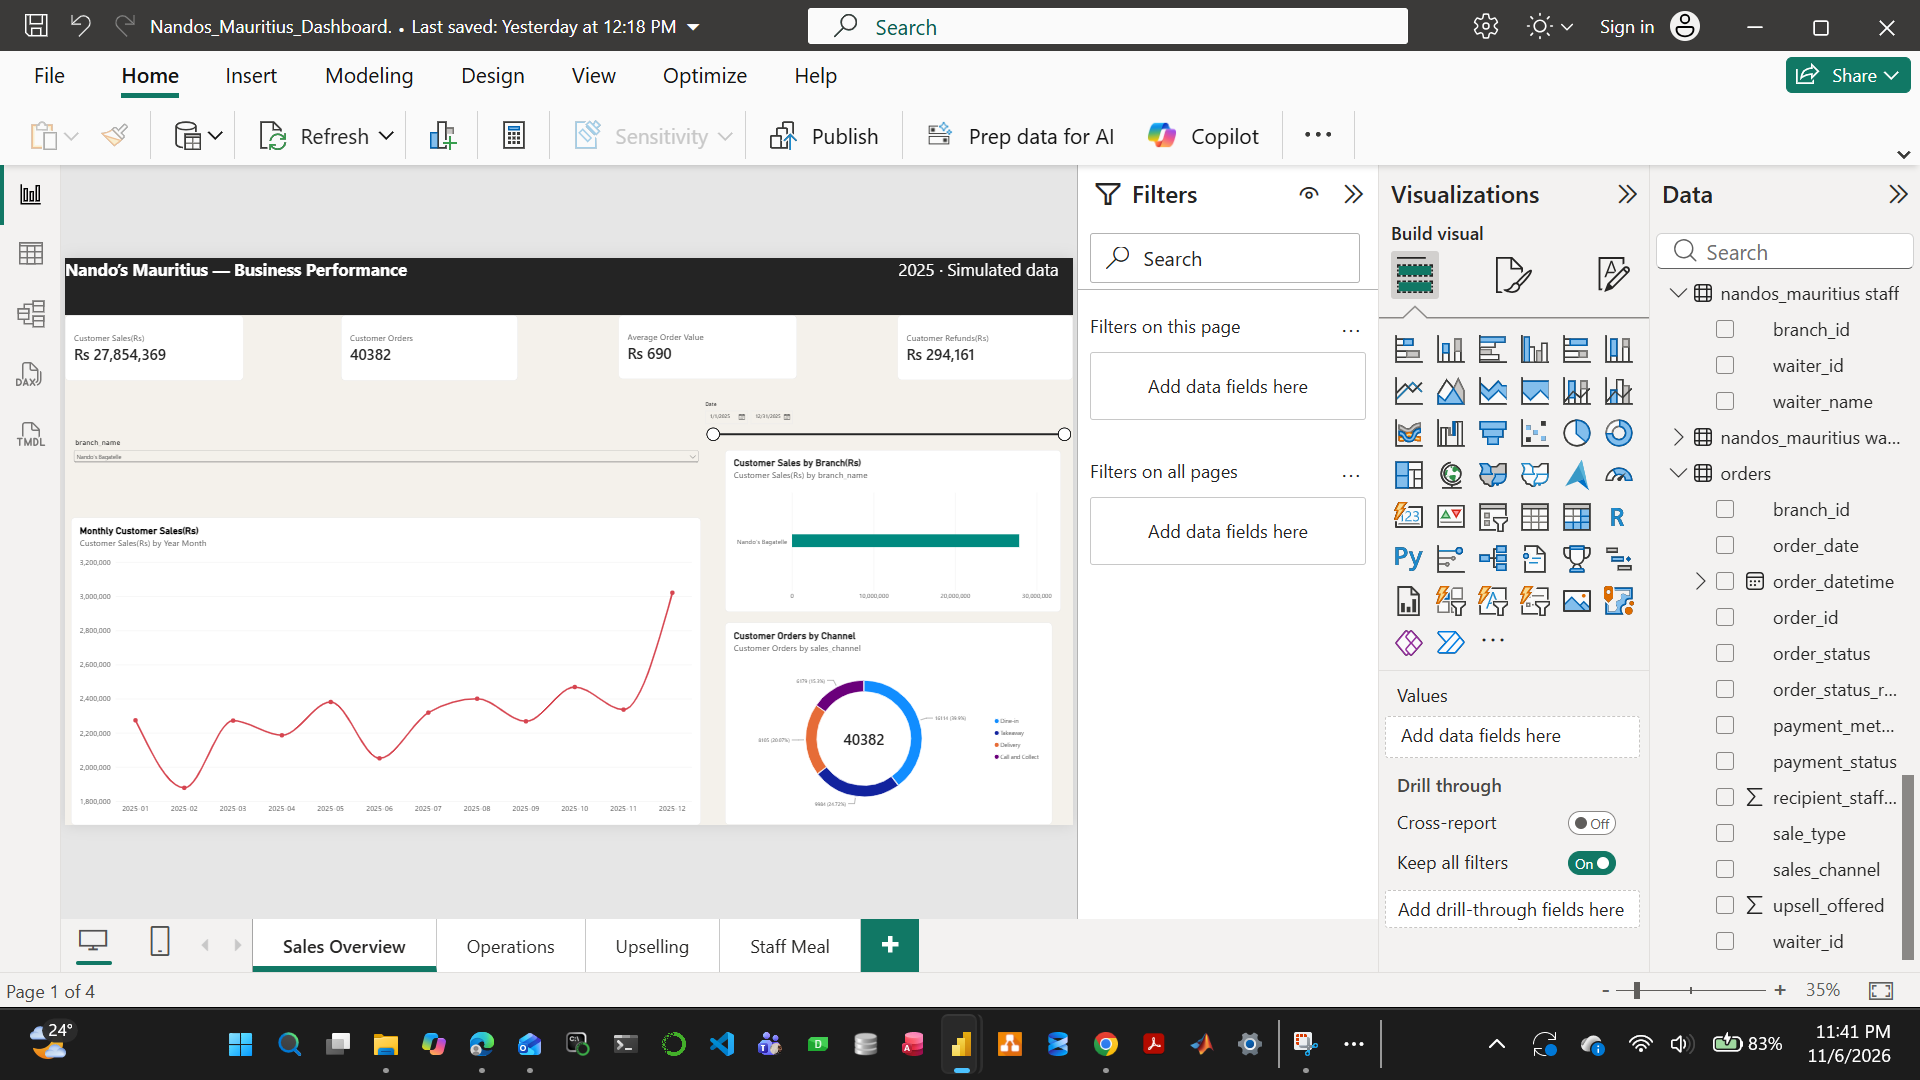

The dashboard page shown, as its layout file describes it:
{"tool":"powerbi","page":{"name":"Sales Overview","canvas":[1920,1080],"ordinal":0},"visuals":[{"type":"cardVisual","fields":{"Data":["Calendar.Customer Sales"]},"box":[0,108.6,340,125.7],"z":0},{"type":"cardVisual","fields":{"Data":["Calendar.Customer Orders"]},"box":[525.7,108.6,337.1,125.7],"z":1000},{"type":"cardVisual","fields":{"Data":["Calendar.Average Order Value"]},"box":[1054.3,108.6,340,122.9],"z":2000},{"type":"lineChart","title":"Monthly Customer Sales(Rs)","fields":{"Category":["Calendar.Year Month"],"Y":["Calendar.Customer Sales"]},"box":[11.4,494.3,1200,585.7],"z":3000},{"type":"clusteredBarChart","title":"Customer Sales by Branch(Rs)","fields":{"Category":["nandos_mauritius branches.branch_name"],"Y":["Calendar.Customer Sales"]},"box":[1257.1,365.7,640,308.6],"z":4000},{"type":"donutChart","title":"Customer Orders by Channel","fields":{"Category":["orders.sales_channel"],"Y":["Calendar.Customer Orders"]},"box":[1255.8,694.5,623.6,385.5],"z":5000},{"type":"slicer","fields":{"Values":["nandos_mauritius branches.branch_name"]},"box":[11.4,342.9,1200,108.6],"z":6000},{"type":"slicer","fields":{"Values":["Calendar.Date"]},"box":[1211.4,271.4,708.6,94.3],"z":7000},{"type":"cardVisual","fields":{"Data":["Calendar. Cuatomer Refunds(Rs)"]},"box":[1584.6,107.7,334.5,124.7],"z":8000},{"type":"textbox","box":[500,108.6,362.9,125.7],"z":9000},{"type":"textbox","box":[0,0,1920,108.6],"z":10000}]}

Visuals, with their boxes on the page's 1920x1080 design canvas (x1, y1, x2, y2). These are canvas units, not pixel positions in the 1920x1080 screenshot, which may show the page scaled, cropped or inside an application window:
cardVisual - Calendar.Customer Sales: bbox=[0, 109, 340, 234]
cardVisual - Calendar.Customer Orders: bbox=[526, 109, 863, 234]
cardVisual - Calendar.Average Order Value: bbox=[1054, 109, 1394, 232]
"Monthly Customer Sales(Rs)" lineChart: bbox=[11, 494, 1211, 1080]
"Customer Sales by Branch(Rs)" clusteredBarChart: bbox=[1257, 366, 1897, 674]
"Customer Orders by Channel" donutChart: bbox=[1256, 694, 1879, 1080]
slicer - nandos_mauritius branches.branch_name: bbox=[11, 343, 1211, 452]
slicer - Calendar.Date: bbox=[1211, 271, 1920, 366]
cardVisual - Calendar. Cuatomer Refunds(Rs): bbox=[1585, 108, 1919, 232]
textbox: bbox=[500, 109, 863, 234]
textbox: bbox=[0, 0, 1920, 109]
